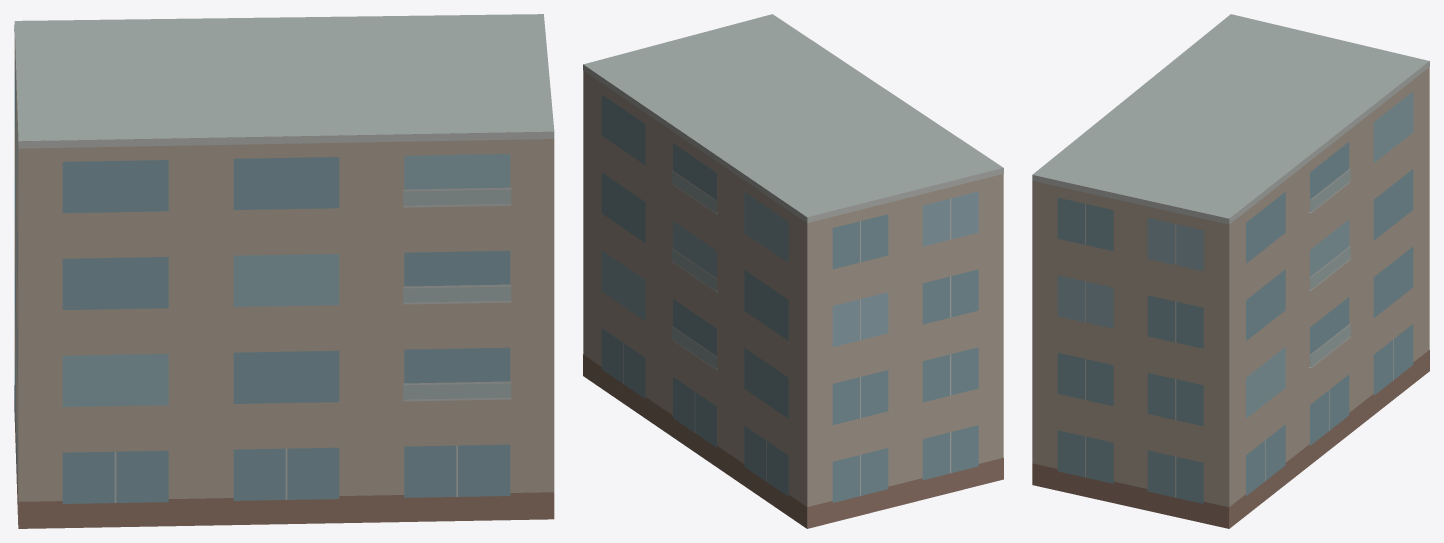
The model's file is survey-upis-32665124.glb.
3 views of the same model, side by side, from view 1: azimuth 30°, elevation 25°; view 2: azimuth 150°, elevation 25°; view 3: azimuth 270°, elevation 25° (orthographic). The views are drawn at different scales.
Visible parts, largest first — view 1: survey-upis-32665124.tmp; view 2: survey-upis-32665124.tmp; view 3: survey-upis-32665124.tmp.
Part boxes in pixels (<box>): survey-upis-32665124.tmp: <box>14,14,554,528</box>; survey-upis-32665124.tmp: <box>583,14,1003,528</box>; survey-upis-32665124.tmp: <box>1032,14,1429,528</box>.
Size of the model in its own units: 18.13 by 12.8 by 14.88.
